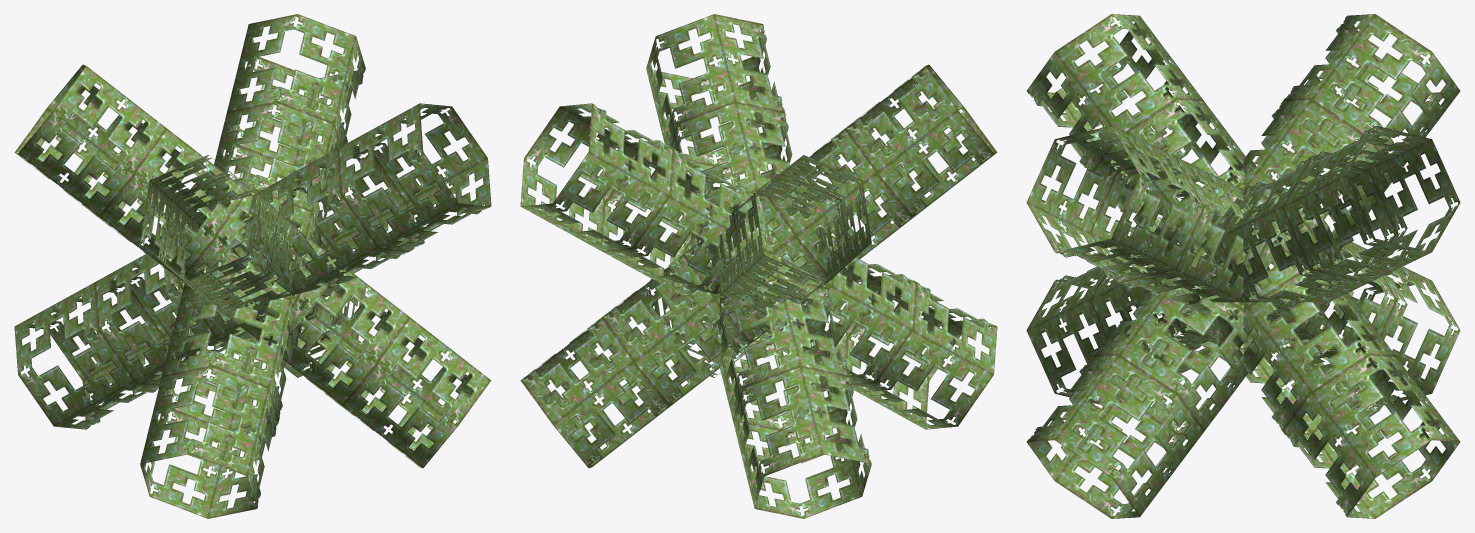
File: Hexahemioctacron10.gltf
3 renders of one model, left to right at view 1: azimuth 30°, elevation 25°; view 2: azimuth 150°, elevation 25°; view 3: azimuth 270°, elevation 25°, orthographic. The views are drawn at different scales.
Parts seen in each view (by area): view 1: Hexahemioctacron1; view 2: Hexahemioctacron1; view 3: Hexahemioctacron1.
Part boxes in pixels (x1,y1,x2,y2): Hexahemioctacron1: (14, 14, 491, 518); Hexahemioctacron1: (520, 14, 997, 518); Hexahemioctacron1: (1026, 14, 1460, 518).
Size of the model in its own units: 6.25 by 6.25 by 6.25.
1 material, 1 textured.
